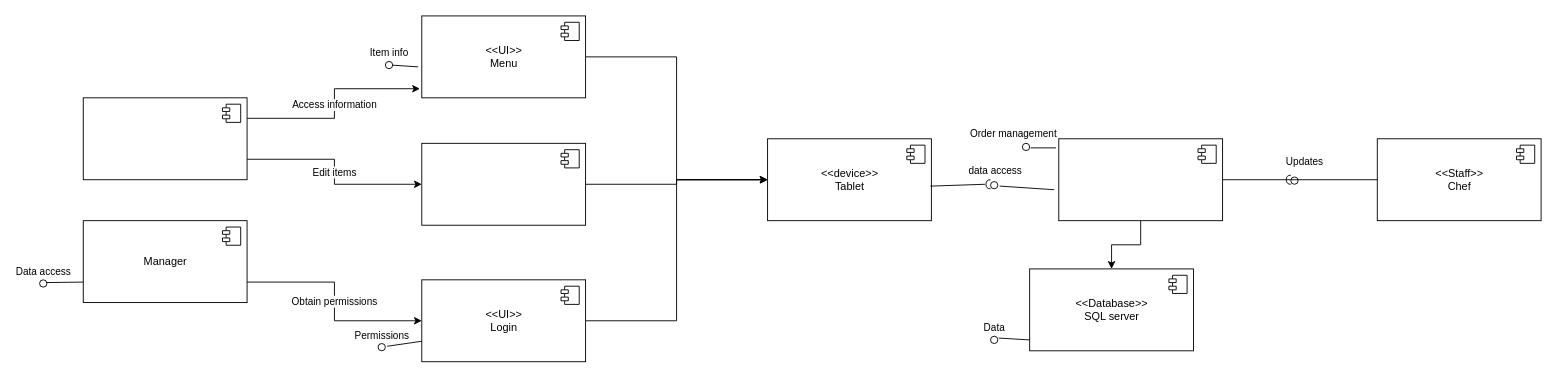
The diagram is 1557 pixels wide and 378 high, and some of its shapes have lost their labels. Here are the shapes that lost their labels. From the top down, the centre of each, then its label:
At pixel 164 138: "<<User>> Customer".
At pixel 503 183: "<<UI>> Cart".
At pixel 1140 179: "<<Server>> Web service".
